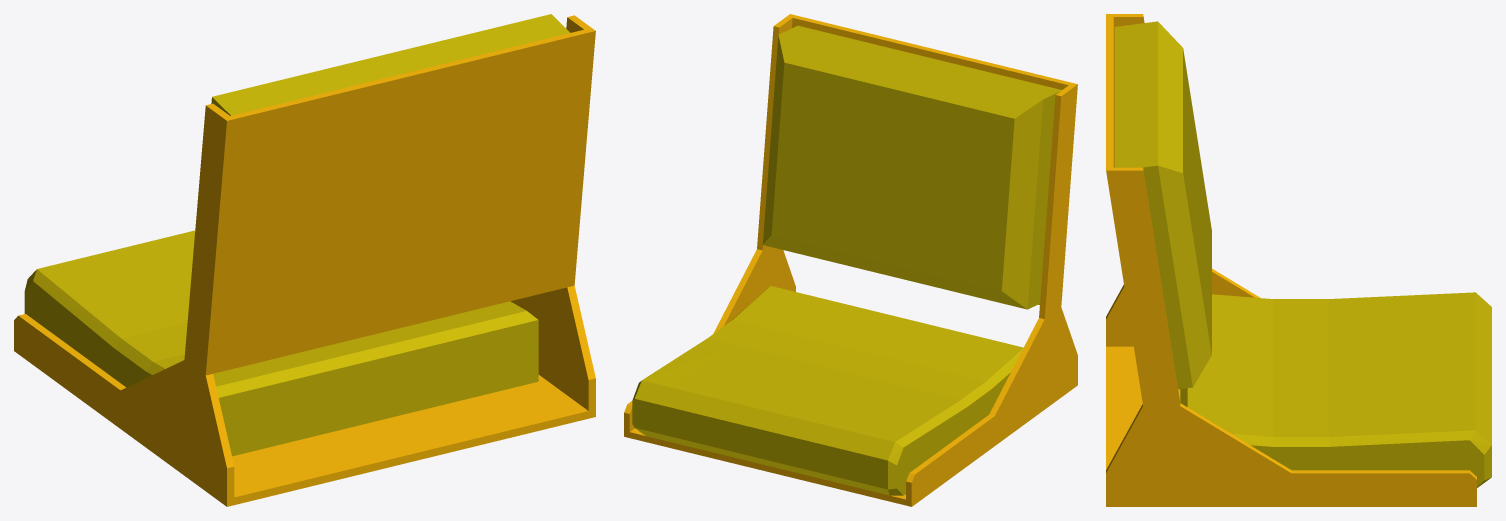
The model's file is seat_car_passenger_tiny.dae.
The picture shows the model from 3 angles, left to right: view 1: azimuth 30°, elevation 25°; view 2: azimuth 150°, elevation 25°; view 3: azimuth 270°, elevation 25°; orthographic projection. The views are drawn at different scales.
Visible parts, largest first — view 1: Cube; view 2: Cube; view 3: Cube.
Part boxes in pixels (x1,y1,x2,y2): Cube: (14,14,595,506); Cube: (624,14,1077,506); Cube: (1106,14,1491,506).
Size of the model in its own units: 0.5 by 0.52 by 0.5.
